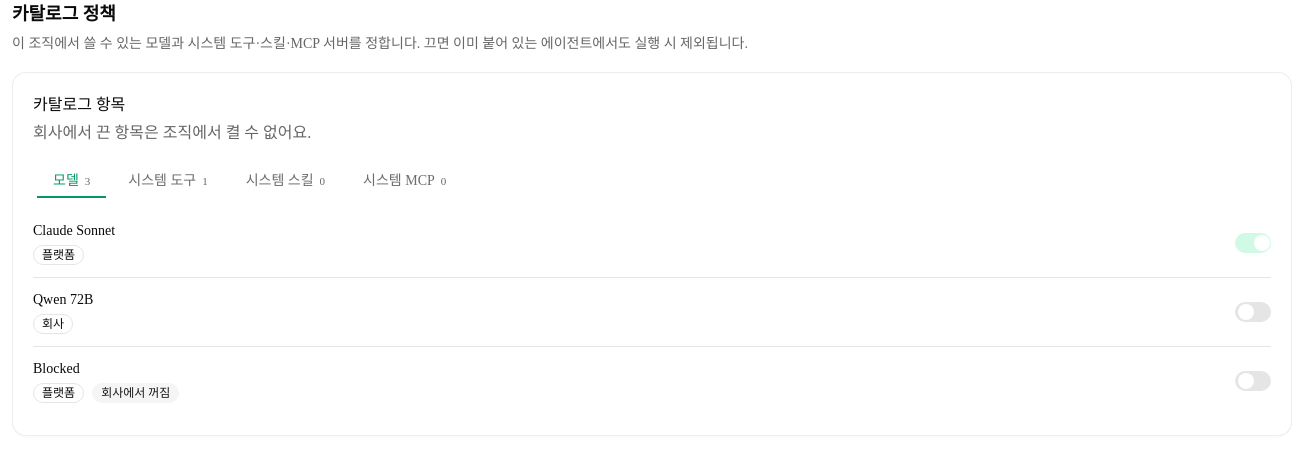
Test case: OrgCatalogContent (S09) › lists items per kind and locks company-disabled ones
This screenshot has width=1292, height=453.
Expected: the checkbox "Claude Sonnet" is shown, [33,221,115,241]
Expected: the text "Web search" is not shown
Click the tab "시스템 도구 1". click: (168, 181)
box: [111,168,225,194]
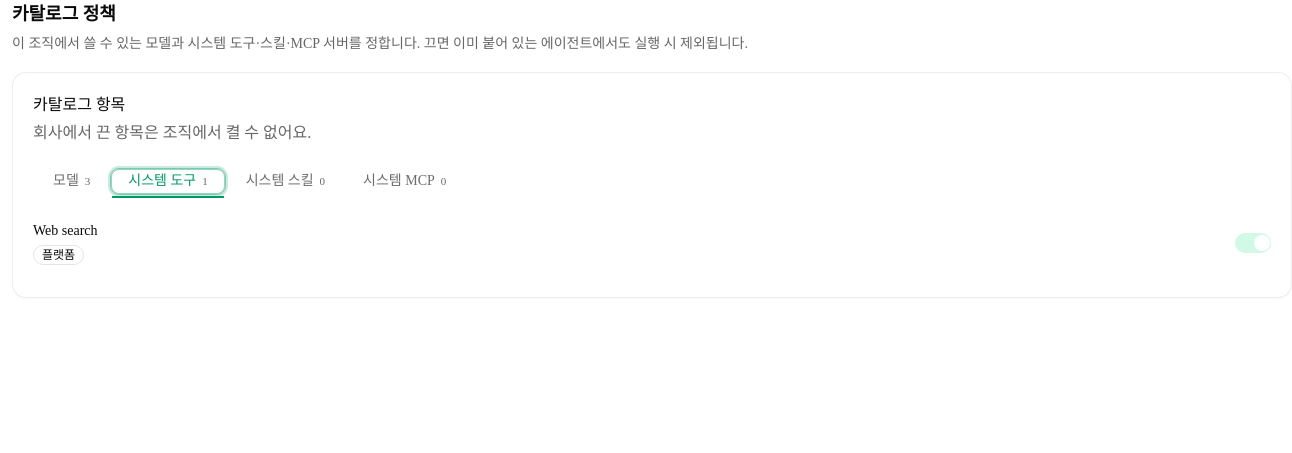
Now the checkbox "Web search" is shown, box [33,221,98,241]
